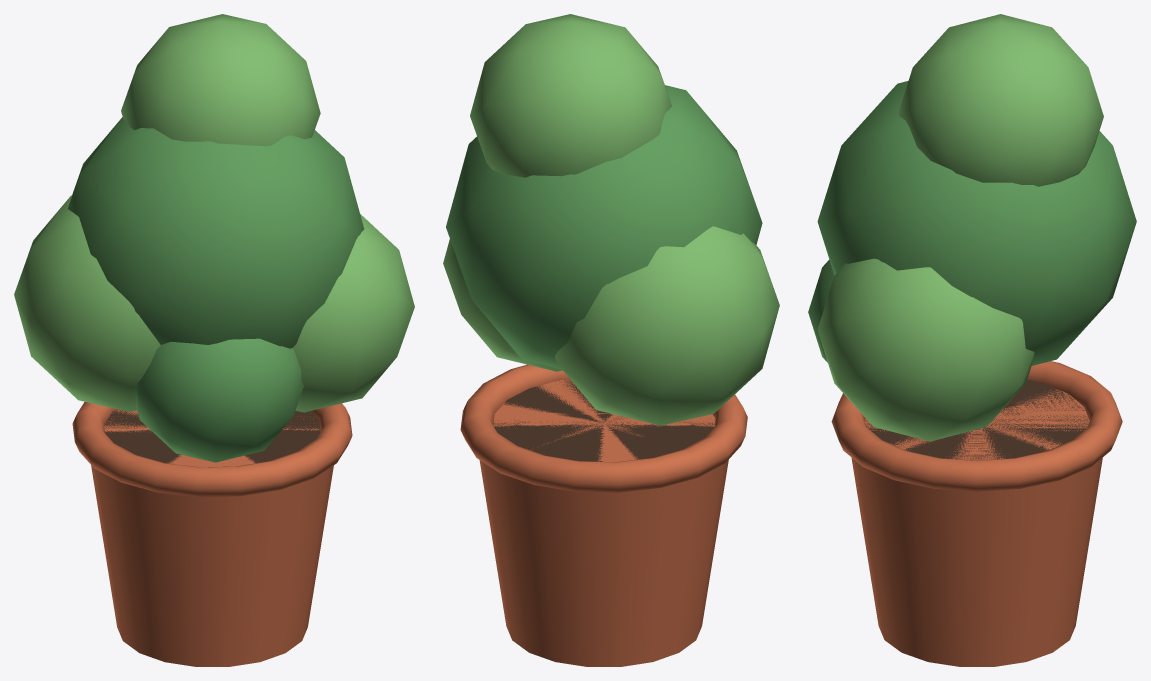
The model's file is plant.glb.
3 views of the same model, side by side, from view 1: azimuth 30°, elevation 25°; view 2: azimuth 150°, elevation 25°; view 3: azimuth 270°, elevation 25° (orthographic). The views are drawn at different scales.
Visible parts, largest first — view 1: Leaf0, Pot, Leaf3, Leaf2, Leaf4, Leaf1, Rim, Soil; view 2: Pot, Leaf0, Leaf2, Leaf3, Rim, Soil, Leaf1; view 3: Leaf0, Pot, Leaf1, Leaf3, Rim, Soil, Leaf4.
Boxes of the visible parts, box(x1,y1,x2,y2) form: Leaf0: box(68, 117, 364, 348); Pot: box(91, 409, 333, 666); Leaf3: box(121, 14, 320, 146); Leaf2: box(14, 195, 160, 411); Leaf4: box(135, 338, 303, 462); Leaf1: box(293, 214, 414, 412); Rim: box(72, 402, 352, 496); Soil: box(104, 409, 320, 463); Pot: box(479, 379, 728, 666); Leaf0: box(446, 85, 762, 369); Leaf2: box(555, 226, 779, 425); Leaf3: box(470, 14, 671, 177); Rim: box(460, 364, 747, 492); Soil: box(493, 379, 714, 461); Leaf1: box(443, 239, 562, 371); Leaf0: box(817, 81, 1136, 365); Pot: box(851, 389, 1102, 666); Leaf1: box(817, 258, 1034, 441); Leaf3: box(898, 14, 1103, 186); Rim: box(831, 361, 1122, 491); Soil: box(865, 379, 1089, 460); Leaf4: box(808, 259, 834, 362).
Bounding box in the file's own units: 0.85 × 1.44 × 0.7.
